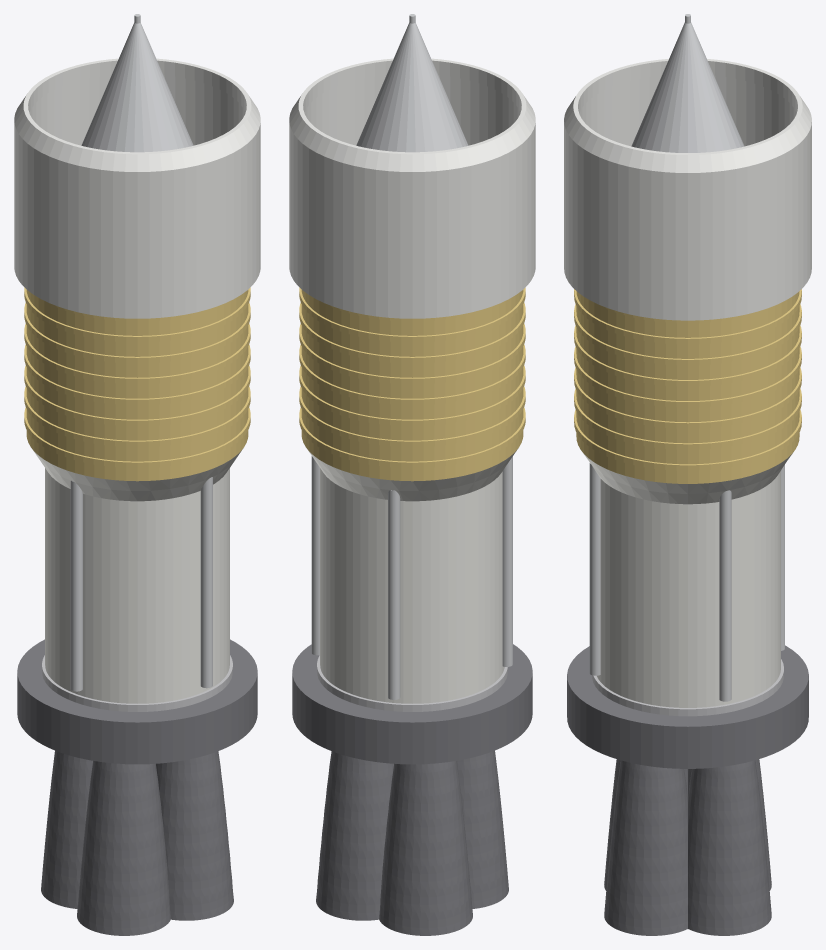
The model's file is jet12_precooled_combined_cycle_rocket.glb.
3 views of the same model, side by side, from view 1: azimuth 30°, elevation 25°; view 2: azimuth 150°, elevation 25°; view 3: azimuth 270°, elevation 25° (orthographic).
Visible parts, largest first — view 1: cowl, precooler, core, rocket_nozzles, bypass_burners, spike, core_pipes, mount_ring; view 2: cowl, core, precooler, rocket_nozzles, bypass_burners, spike, core_pipes, mount_ring; view 3: cowl, core, precooler, rocket_nozzles, bypass_burners, spike, core_pipes, mount_ring.
Boxes of the visible parts, left/top/right/bottom form: cowl: left=14, top=58, right=260, bottom=318; precooler: left=24, top=287, right=250, bottom=481; core: left=31, top=448, right=243, bottom=703; rocket_nozzles: left=41, top=750, right=233, bottom=935; bypass_burners: left=17, top=639, right=257, bottom=764; spike: left=81, top=14, right=193, bottom=152; core_pipes: left=70, top=477, right=212, bottom=691; mount_ring: left=42, top=655, right=232, bottom=711; cowl: left=289, top=58, right=535, bottom=318; core: left=306, top=448, right=518, bottom=703; precooler: left=299, top=287, right=525, bottom=481; rocket_nozzles: left=316, top=750, right=508, bottom=935; bypass_burners: left=292, top=644, right=532, bottom=764; spike: left=356, top=14, right=468, bottom=152; core_pipes: left=311, top=456, right=512, bottom=699; mount_ring: left=317, top=655, right=507, bottom=711; cowl: left=564, top=59, right=811, bottom=320; core: left=583, top=453, right=792, bottom=707; precooler: left=574, top=289, right=801, bottom=483; rocket_nozzles: left=604, top=759, right=771, bottom=935; bypass_burners: left=567, top=645, right=808, bottom=768; spike: left=631, top=14, right=744, bottom=152; core_pipes: left=589, top=462, right=784, bottom=701; mount_ring: left=592, top=659, right=783, bottom=716.
Bounding box in the file's own units: 1.6 × 6.3 × 1.6.
